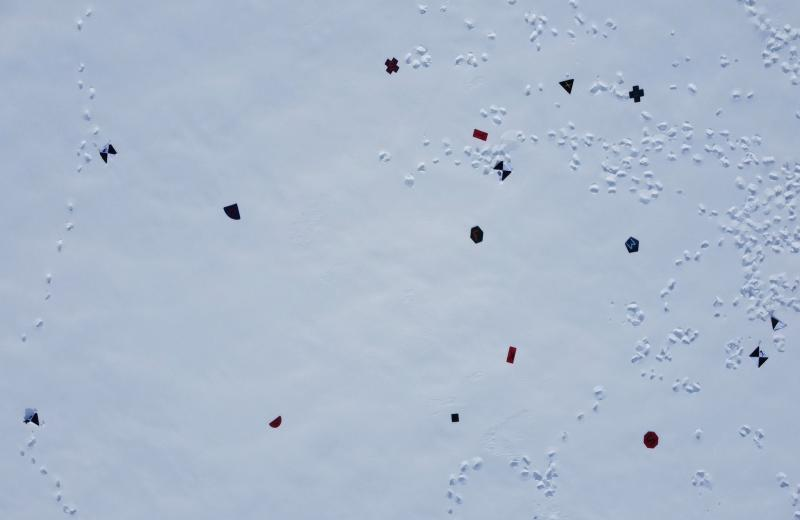Cross: (382, 52, 398, 72), (628, 84, 644, 104)
Hexagon: (470, 226, 484, 244)
Octagon: (643, 430, 659, 450)
Pentagon: (623, 236, 641, 254)
Quarter Circle: (224, 203, 242, 221)
Rectangle: (506, 345, 520, 365), (472, 127, 488, 144)
Semi Circle: (266, 413, 284, 429)
Square: (451, 413, 459, 424)
Triangle: (558, 76, 575, 95)
